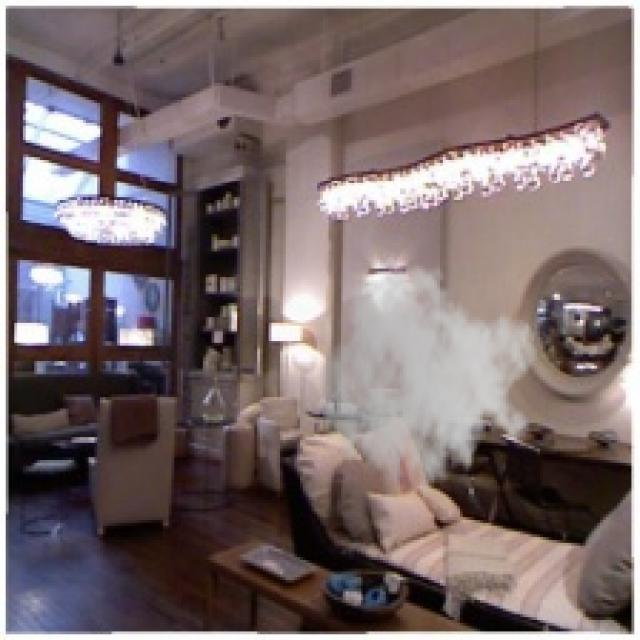Smoke: (317, 255, 540, 514)
